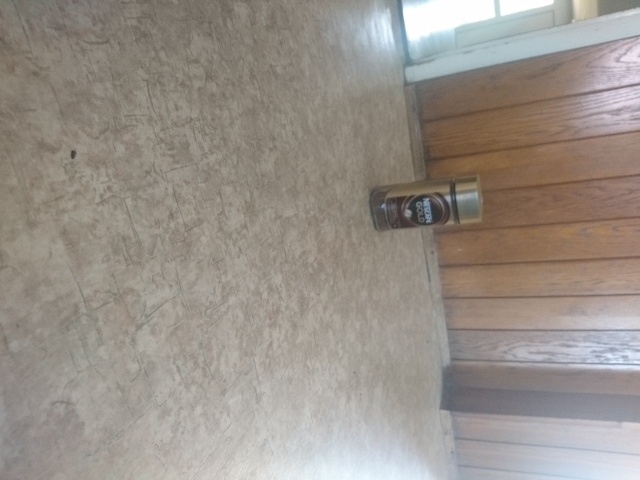Nescafe Gold 225g: (366, 171, 486, 235)
